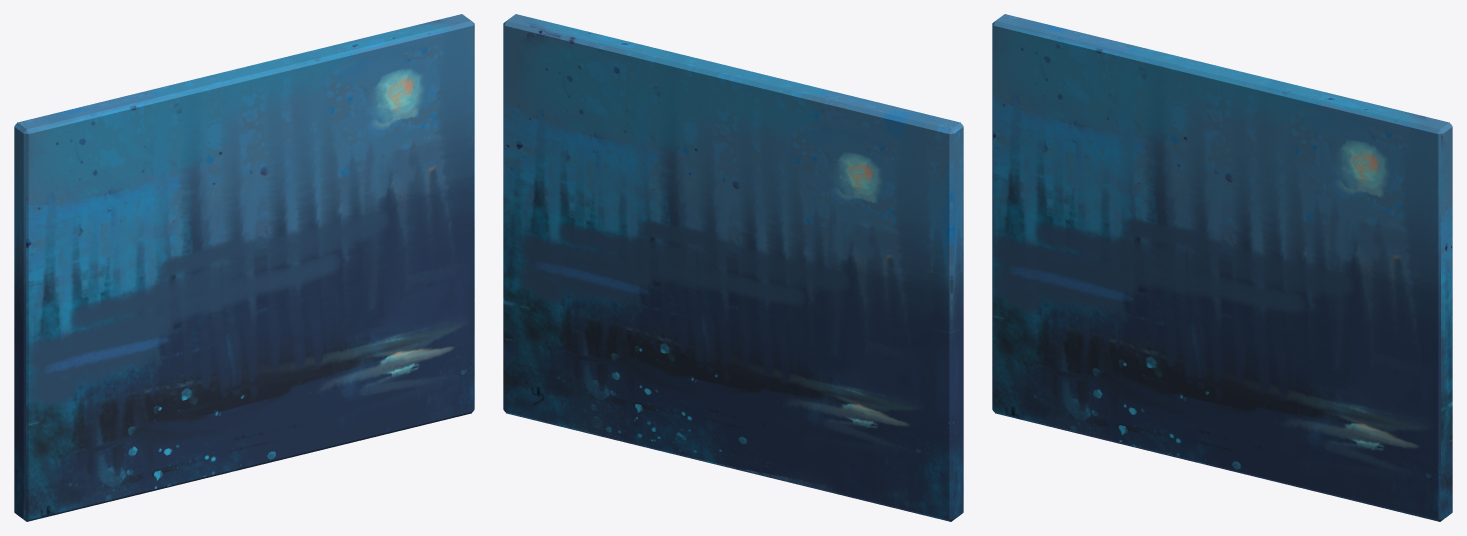
File: Moon_Painting.fbx
3 views of the same model, side by side, from view 1: azimuth 30°, elevation 25°; view 2: azimuth 150°, elevation 25°; view 3: azimuth 330°, elevation 25° (orthographic).
Parts seen in each view (by area): view 1: Painting_Moon; view 2: Painting_Moon; view 3: Painting_Moon.
Part boxes in pixels (bbox=[...]): Painting_Moon: bbox=[14, 14, 474, 521]; Painting_Moon: bbox=[503, 14, 963, 521]; Painting_Moon: bbox=[992, 14, 1452, 521].
Bounding box in the file's own units: 75.76 × 3.82 × 62.99.
1 material, 1 textured.
